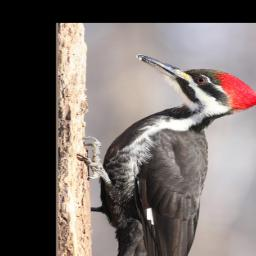Woodpecker: (82, 51, 256, 256)
